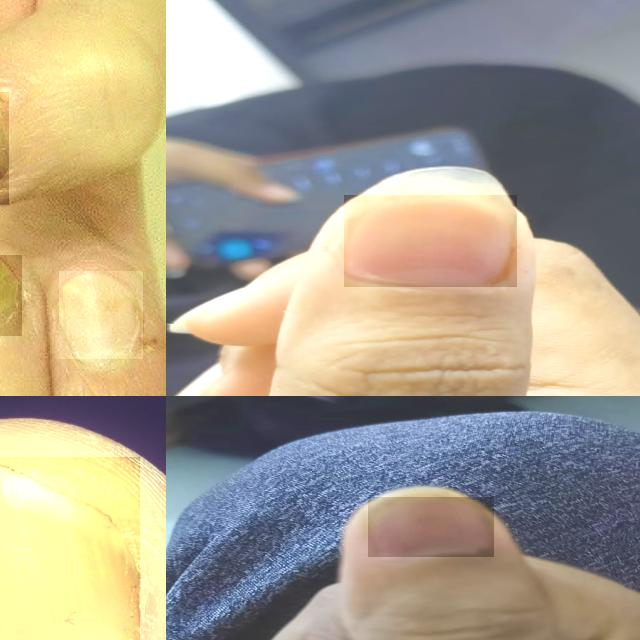diabetes: (0, 460, 140, 640), (60, 272, 143, 359), (0, 260, 22, 330)
sehat: (345, 195, 517, 287), (368, 497, 494, 557)
